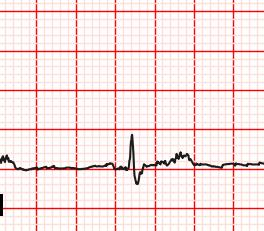ST Depression: (123, 163, 151, 186)
